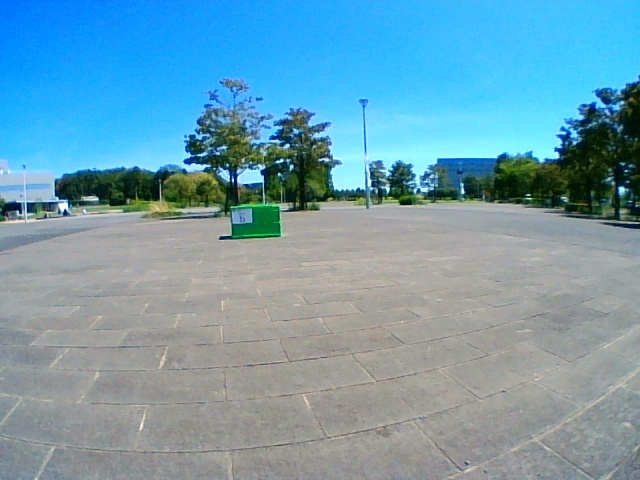green_box: (230, 204, 279, 238)
tag_b: (233, 209, 250, 223)
